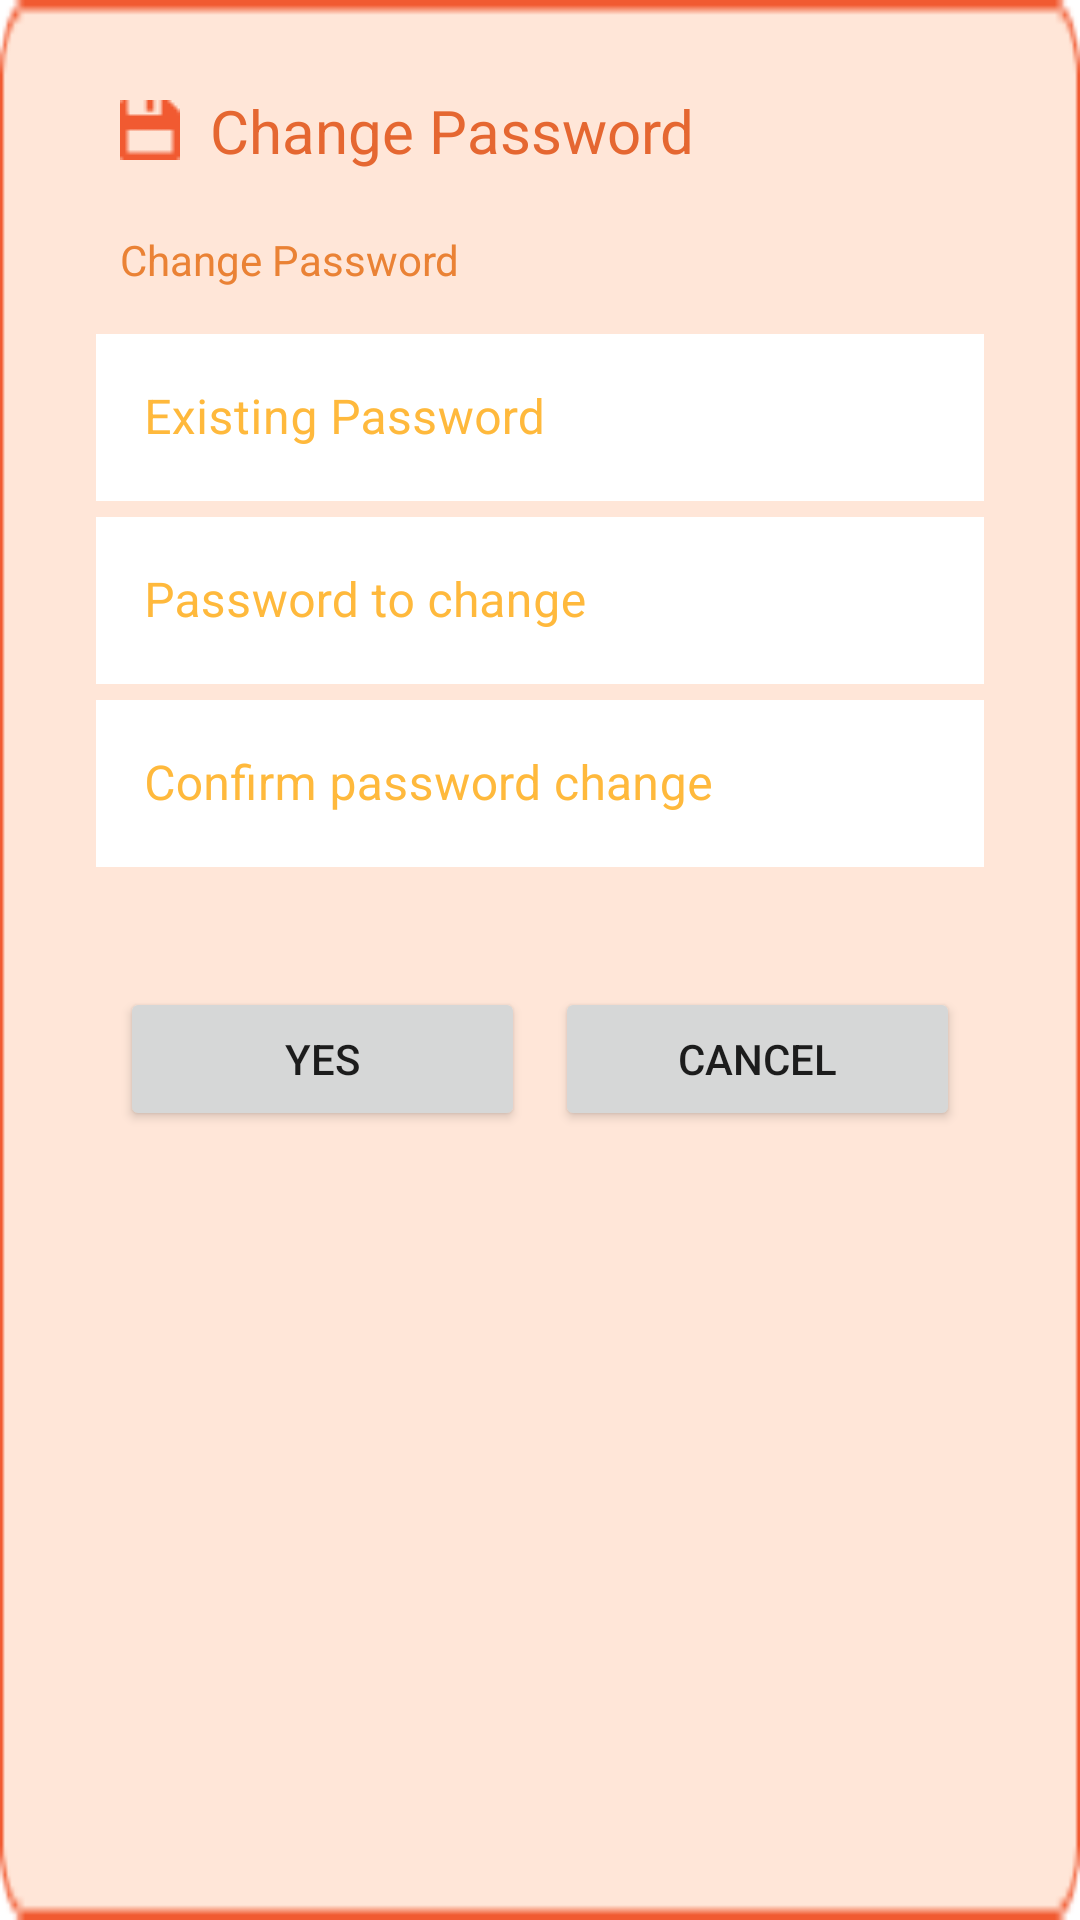

Screen size 1080px x 1920px. Icon name, then its center in pixels as (x=x, y=y):
save: (x=150, y=130)
